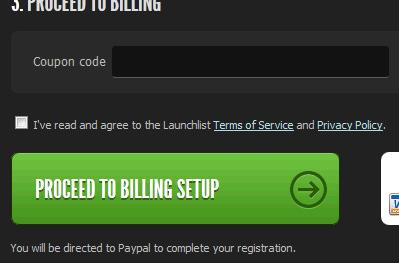button: (12, 152, 340, 224)
checkbox: (15, 113, 33, 134)
checkbox_with_label: (11, 110, 384, 137)
field: (108, 44, 391, 78)
field_with_label: (34, 42, 394, 80)
